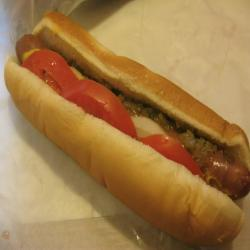hotdog: (8, 14, 247, 241)
